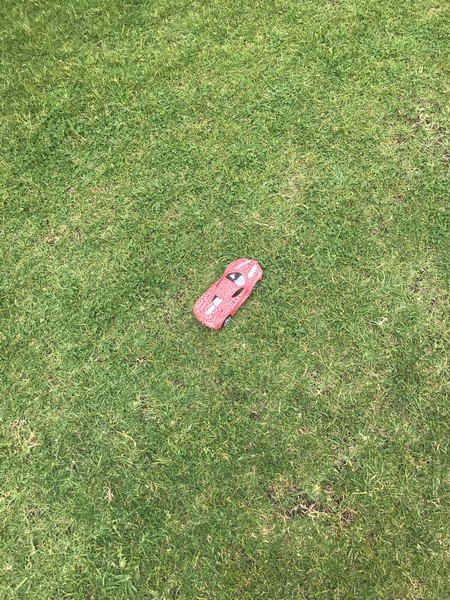RC: (192, 257, 264, 330)
